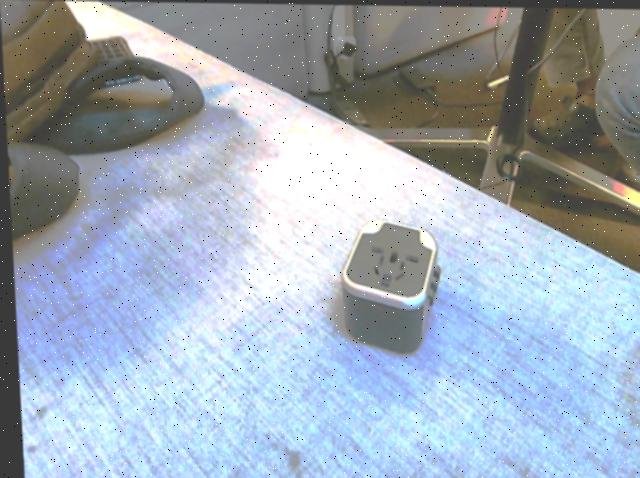adapter: (334, 217, 441, 354)
